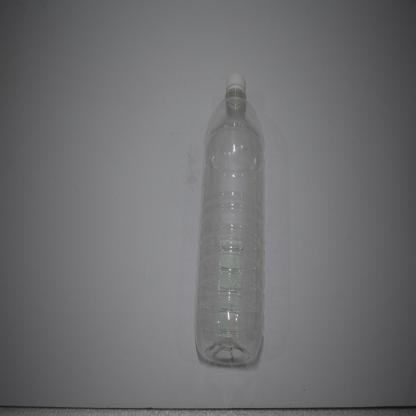Glass Bottle: (194, 73, 265, 366)
